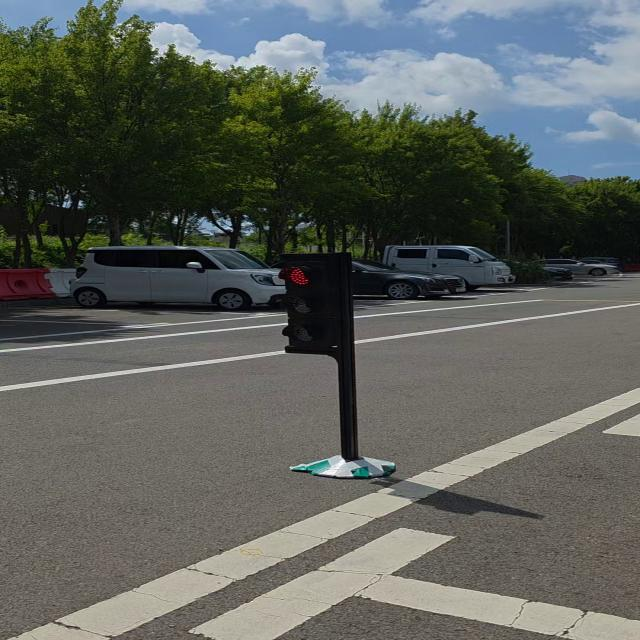red: (269, 245, 361, 367)
